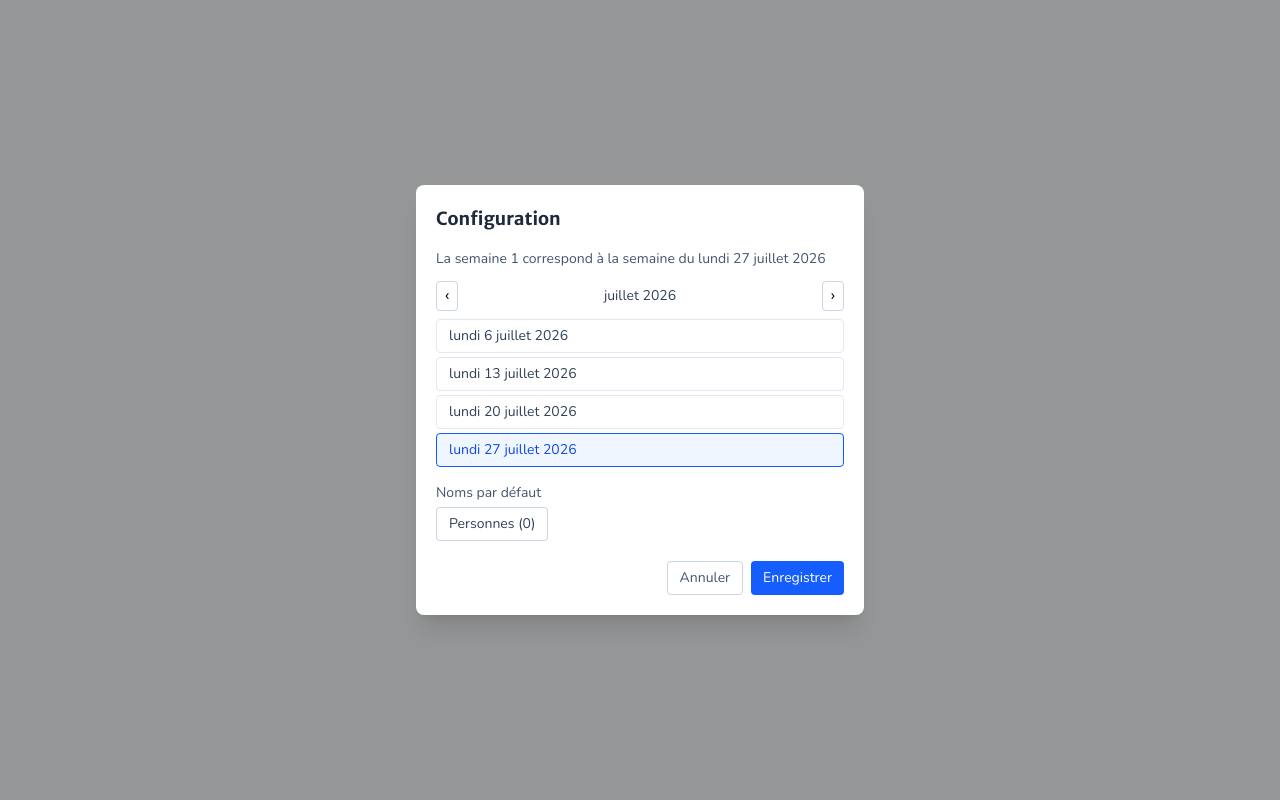
Test case: ConfigModal › navigates months and lists the Mondays of the displayed month
Expected: the text "juillet 2026" is shown, [604,286,676,306]
Click the button named "Mois suivant": (833, 296) [822,281,844,311]
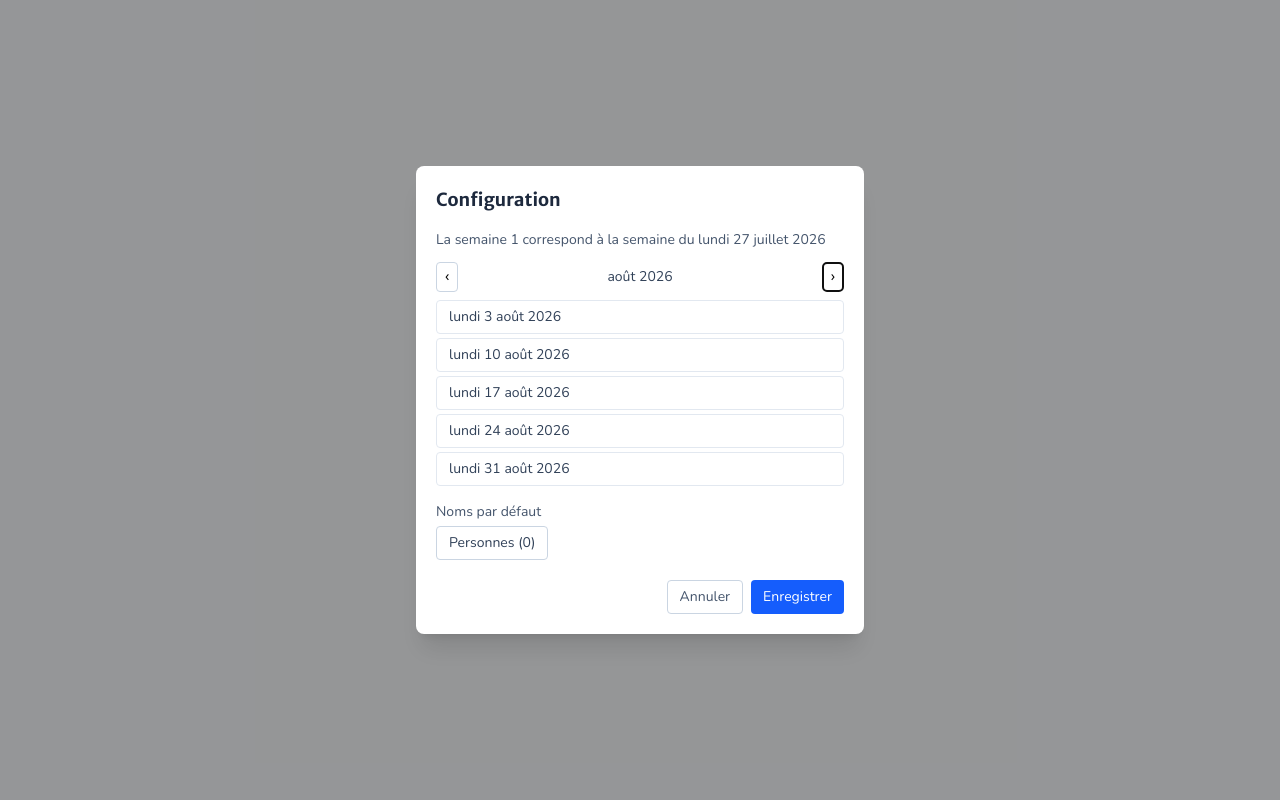
Expected: the text "août 2026" is shown, [607,267,673,287]
Expected: the button "lundi 3 août 2026" is shown, [436,300,844,334]
Expected: the button "lundi 31 août 2026" is shown, [436,452,844,486]
